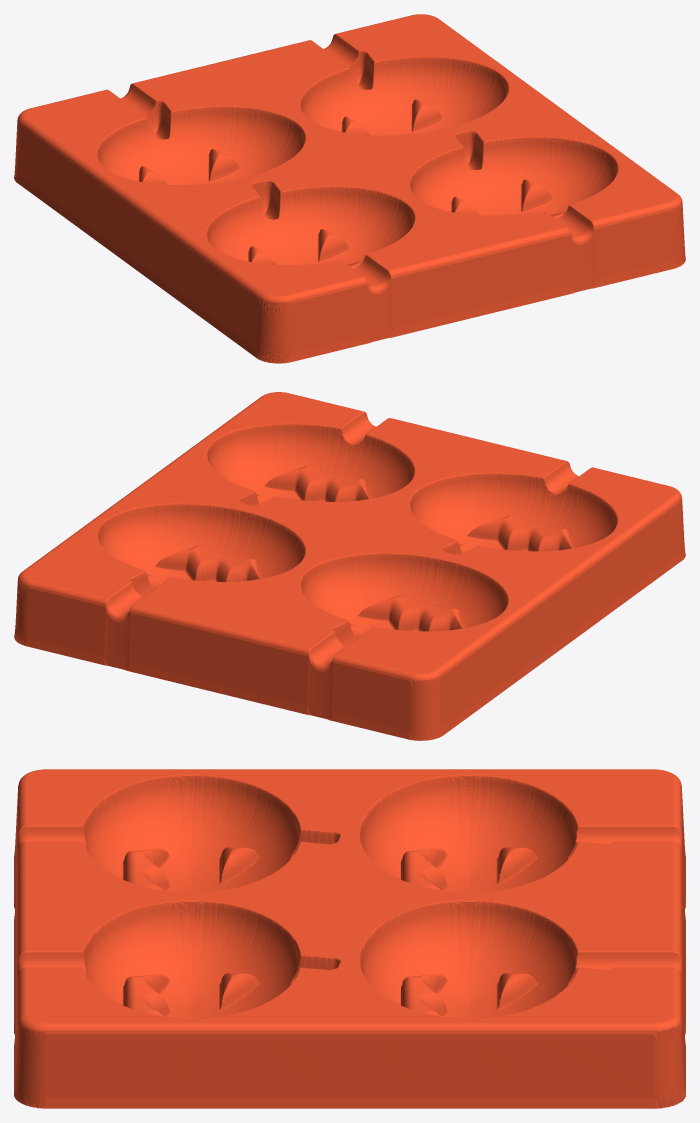
The model's file is mold.glb.
The picture shows the model from 3 angles, top to bottom: view 1: azimuth 30°, elevation 25°; view 2: azimuth 150°, elevation 25°; view 3: azimuth 270°, elevation 25°; orthographic projection. The views are drawn at different scales.
Parts seen in each view (by area): view 1: geometry_0; view 2: geometry_0; view 3: geometry_0.
Boxes of the visible parts, box(x1,y1,x2,y2) form: geometry_0: box(14, 14, 685, 363); geometry_0: box(14, 392, 685, 740); geometry_0: box(14, 769, 685, 1108).
Size of the model in its own units: 0.1726 by 0.0245 by 0.1859.
